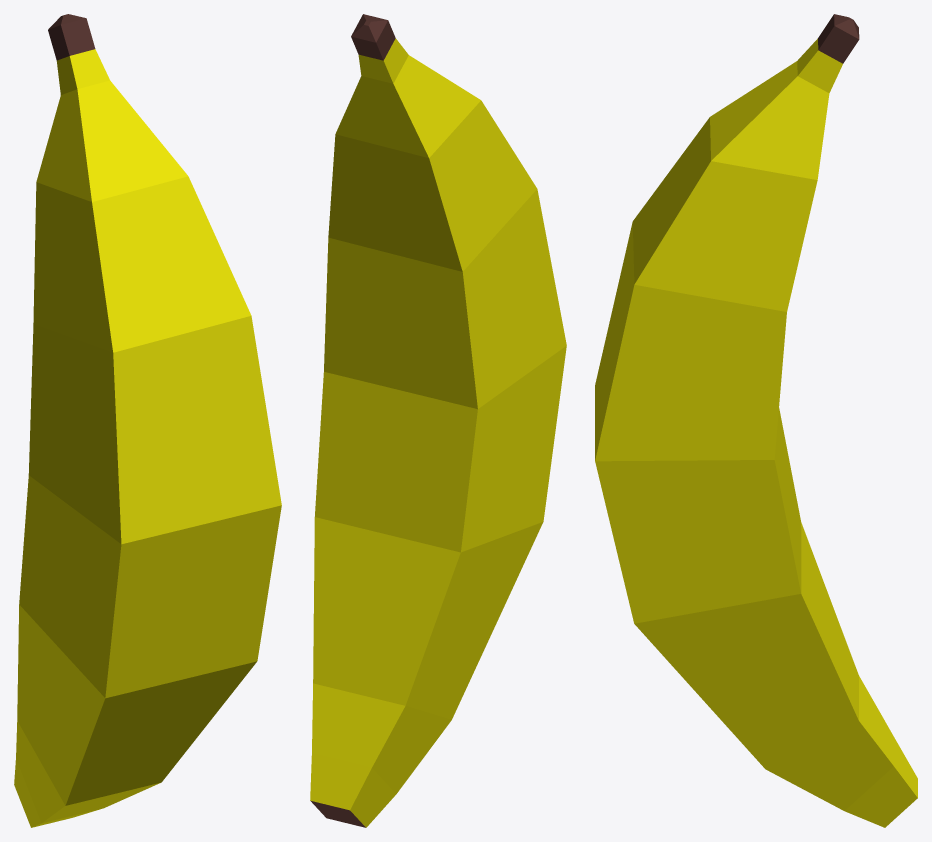
File: banana.fbx
3 views of the same model, side by side, from view 1: azimuth 30°, elevation 25°; view 2: azimuth 150°, elevation 25°; view 3: azimuth 270°, elevation 25° (orthographic). The views are drawn at different scales.
Parts seen in each view (by area): view 1: Plane; view 2: Plane; view 3: Plane.
Boxes of the visible parts, x1,y1,x2,y2 form: Plane: (14,14,281,827); Plane: (310,14,566,827); Plane: (595,14,917,827).
Bounding box in the file's own units: 75.24 × 369 × 135.
